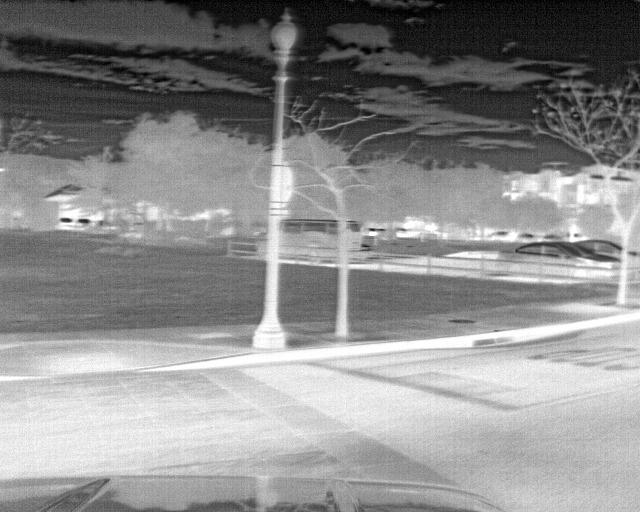car: (496, 241, 616, 267), (281, 218, 339, 256), (574, 236, 620, 260), (347, 220, 365, 255), (513, 232, 536, 244), (486, 229, 507, 241), (74, 217, 90, 230), (57, 217, 74, 229)
